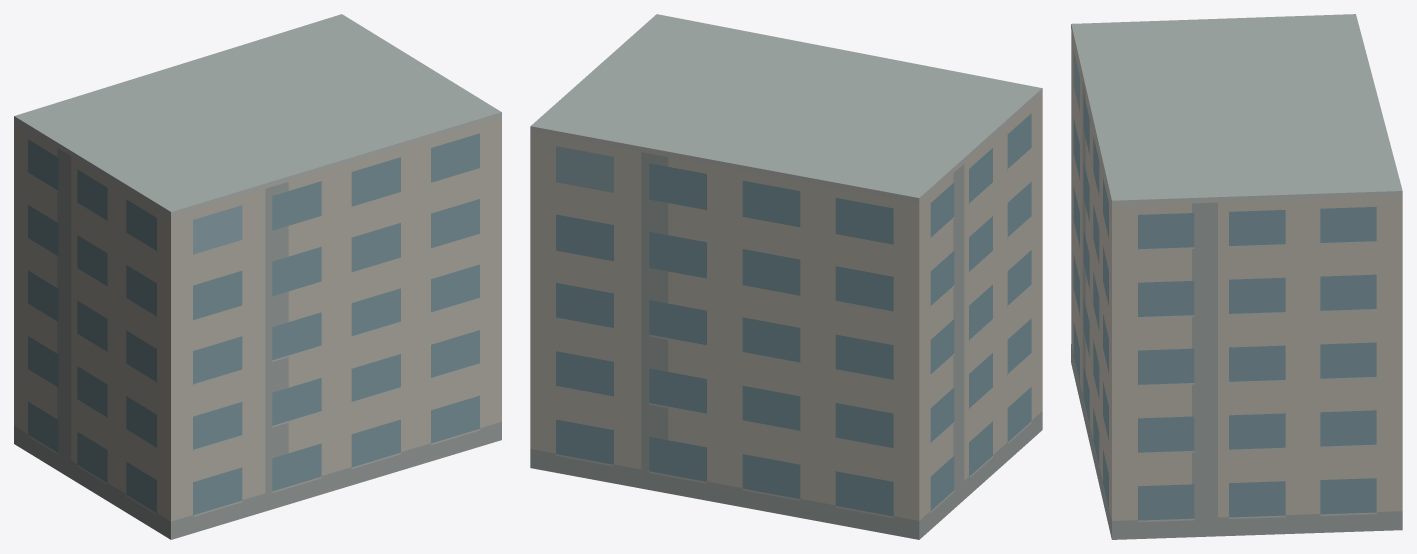
File: residential-13264218-b1cb-4f8b-8de4-61612e5286a2.glb
The picture shows the model from 3 angles, left to right: view 1: azimuth 30°, elevation 25°; view 2: azimuth 150°, elevation 25°; view 3: azimuth 270°, elevation 25°; orthographic projection. The views are drawn at different scales.
Visible parts, largest first — view 1: residential-13264218-b1cb-4f8b-8de4-61612e5286a2.tmp; view 2: residential-13264218-b1cb-4f8b-8de4-61612e5286a2.tmp; view 3: residential-13264218-b1cb-4f8b-8de4-61612e5286a2.tmp.
Part boxes in pixels (x1=…): residential-13264218-b1cb-4f8b-8de4-61612e5286a2.tmp: x1=14, y1=14, x2=501, y2=539; residential-13264218-b1cb-4f8b-8de4-61612e5286a2.tmp: x1=530, y1=14, x2=1042, y2=539; residential-13264218-b1cb-4f8b-8de4-61612e5286a2.tmp: x1=1071, y1=14, x2=1402, y2=539.
Bounding box in the file's own units: 18.01 × 15.25 × 13.51.
